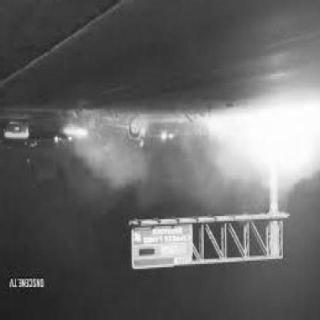Fire: (202, 106, 320, 208)
